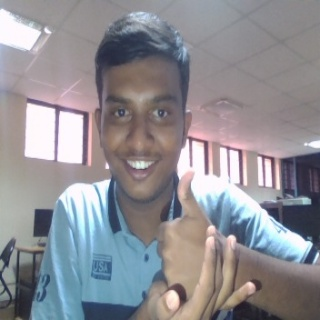Face: (90, 10, 194, 206)
Help: (146, 169, 257, 320)
